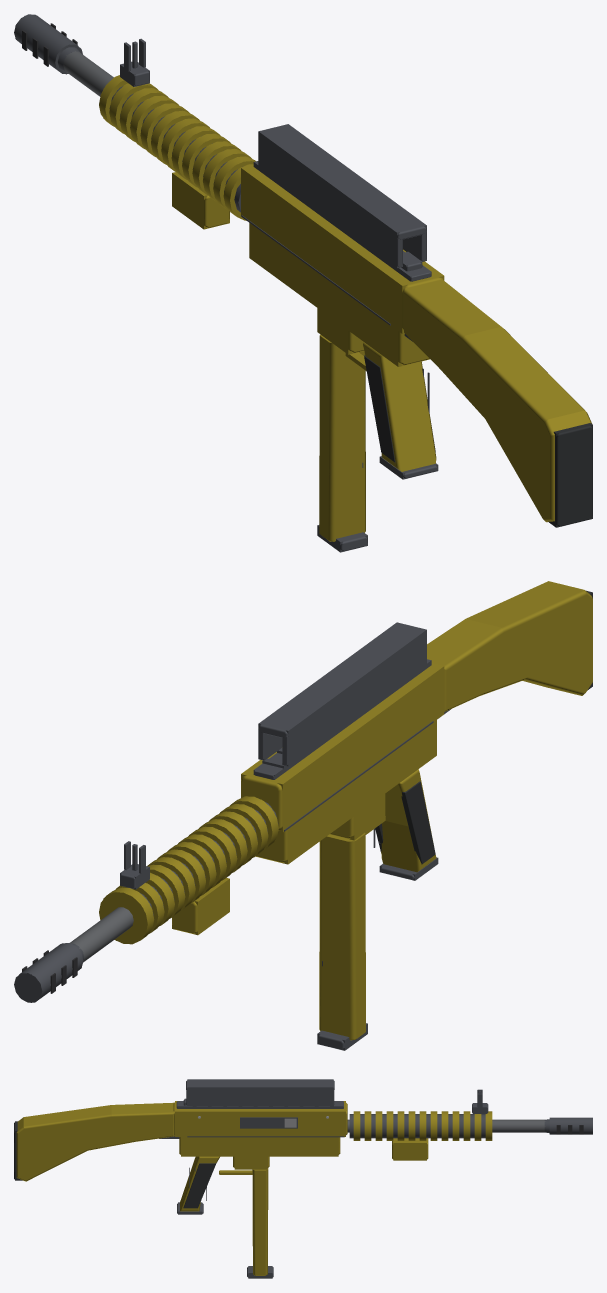
The model's file is a_gauntlet.glb.
The picture shows the model from 3 angles, top to bottom: view 1: azimuth 30°, elevation 25°; view 2: azimuth 150°, elevation 25°; view 3: azimuth 270°, elevation 25°; orthographic projection. The views are drawn at different scales.
Visible parts, largest first — view 1: L0, L1; view 2: L0, L1; view 3: L0, L1.
Part boxes in pixels (bbox=[...]): L0: bbox=[14, 14, 592, 551]; L1: bbox=[15, 15, 592, 552]; L0: bbox=[14, 581, 592, 1049]; L1: bbox=[14, 591, 592, 1050]; L0: bbox=[14, 1080, 592, 1277]; L1: bbox=[15, 1079, 592, 1278].
Bounding box in the file's own units: 0.049 × 0.3465 × 0.9488.
